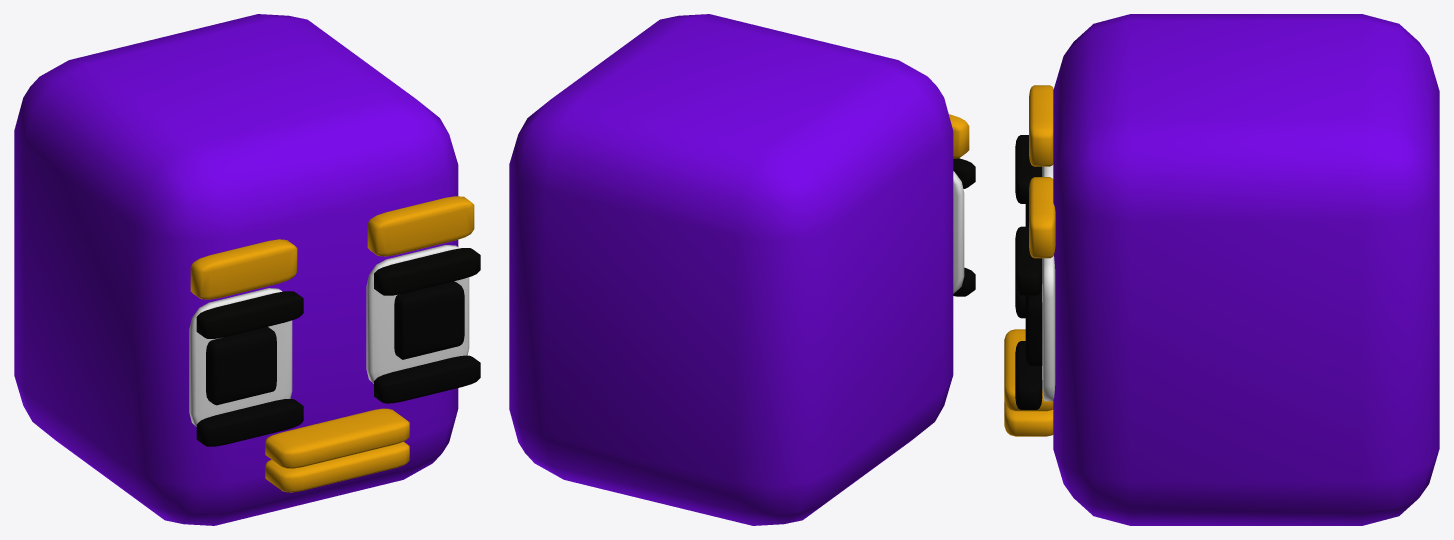
File: face basic.glb
The picture shows the model from 3 angles, left to right: view 1: azimuth 30°, elevation 25°; view 2: azimuth 150°, elevation 25°; view 3: azimuth 270°, elevation 25°; orthographic projection. The views are drawn at different scales.
Parts seen in each view (by area): view 1: Head; view 2: Head; view 3: Head.
Boxes of the visible parts, bbox=[...] form: Head: bbox=[14, 14, 480, 525]; Head: bbox=[509, 14, 975, 525]; Head: bbox=[1004, 14, 1439, 525].
Bounding box in the file's own units: 0.7 × 0.8 × 0.7884.
